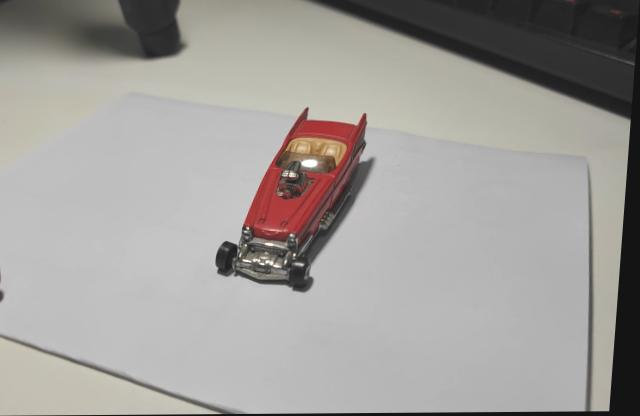03_V8: (218, 109, 376, 294)
